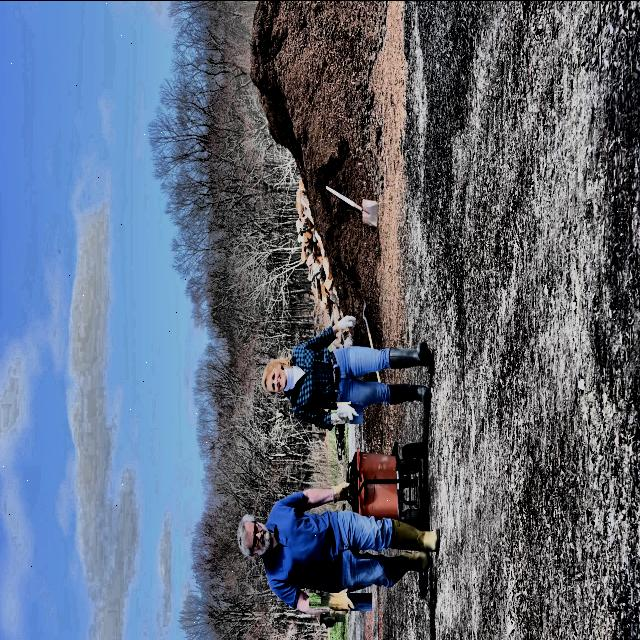gloved: (320, 581, 361, 622), (335, 304, 358, 340), (334, 398, 362, 426), (331, 470, 347, 506)
